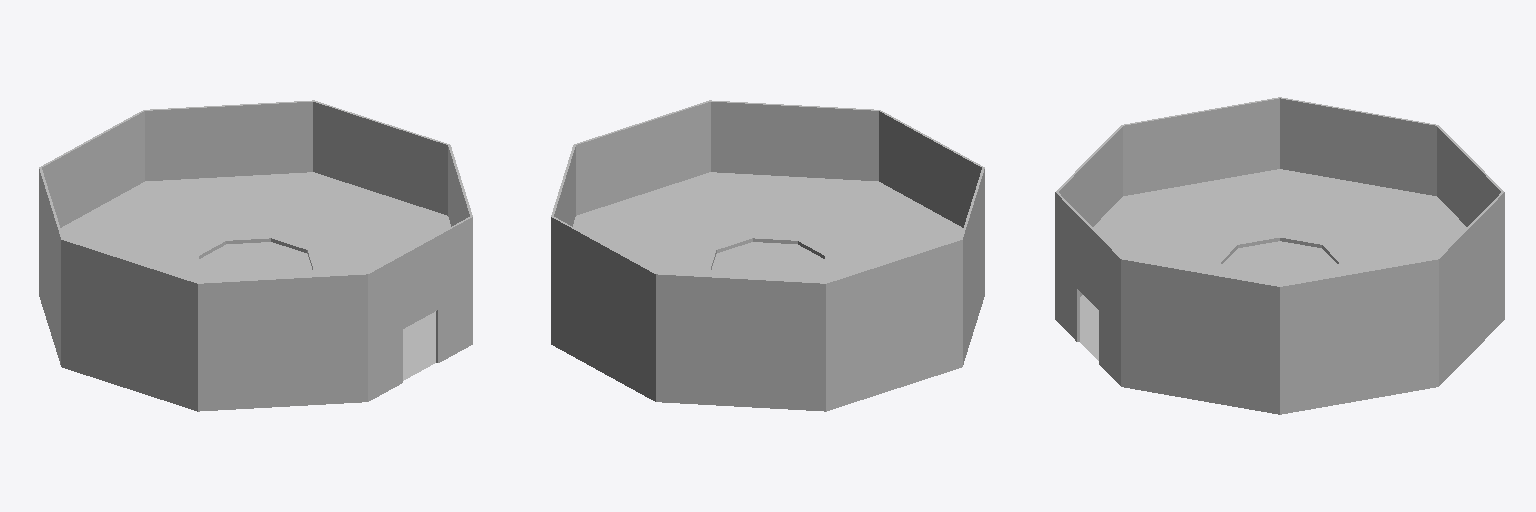
The model's file is lighthouse.obj.
3 views of the same model, side by side, from view 1: azimuth 30°, elevation 25°; view 2: azimuth 150°, elevation 25°; view 3: azimuth 270°, elevation 25° (orthographic).
Parts seen in each view (by area): view 1: Cylinder.001; view 2: Cylinder.001; view 3: Cylinder.001.
Boxes of the visible parts, <box> form: Cylinder.001: <box>39,100,472,411</box>; Cylinder.001: <box>551,100,984,411</box>; Cylinder.001: <box>1055,97,1504,414</box>.
Bounding box in the file's own units: 27.84 × 8.73 × 27.84.